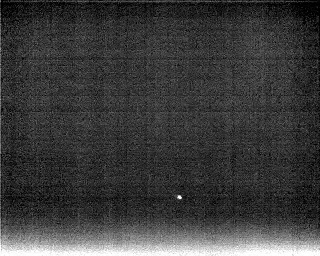BIRD: (175, 192, 184, 203)
